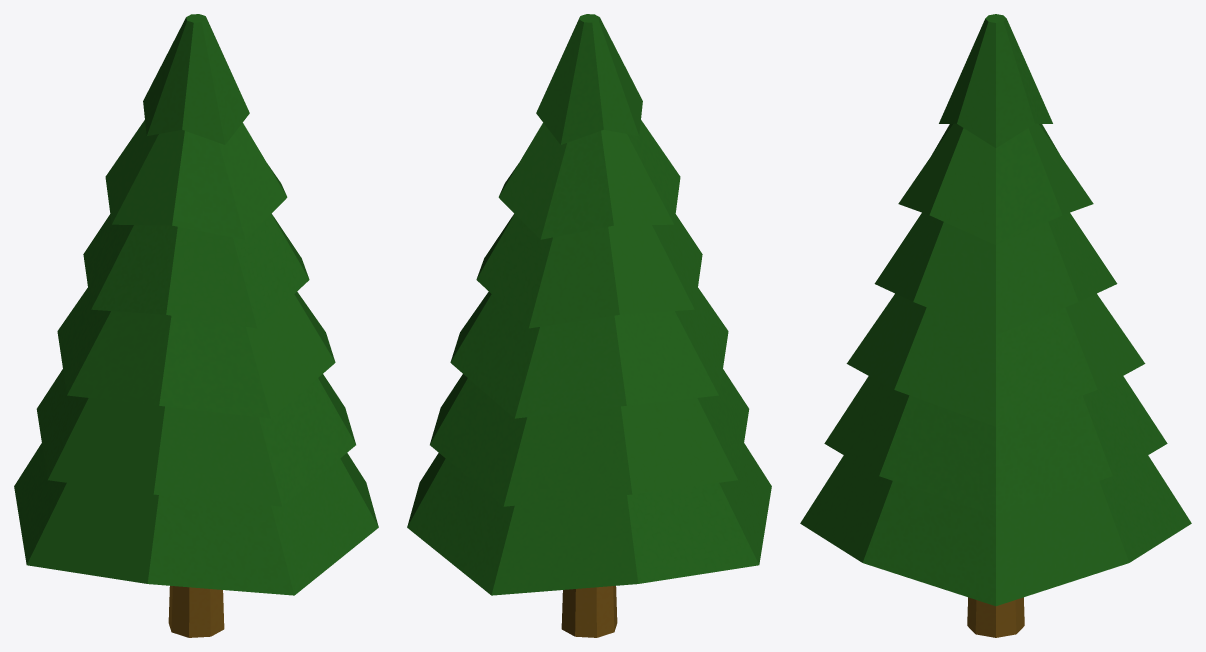
File: trees.obj
The picture shows the model from 3 angles, left to right: view 1: azimuth 30°, elevation 25°; view 2: azimuth 150°, elevation 25°; view 3: azimuth 270°, elevation 25°; orthographic projection.
Parts seen in each view (by area): view 1: default; view 2: default; view 3: default.
Boxes of the visible parts, box(x1,y1,x2,y2) form: default: box(14, 14, 378, 637); default: box(407, 14, 771, 637); default: box(800, 14, 1191, 637).
Bounding box in the file's own units: 28.07 × 47.99 × 28.07.
1 material, 1 textured.
